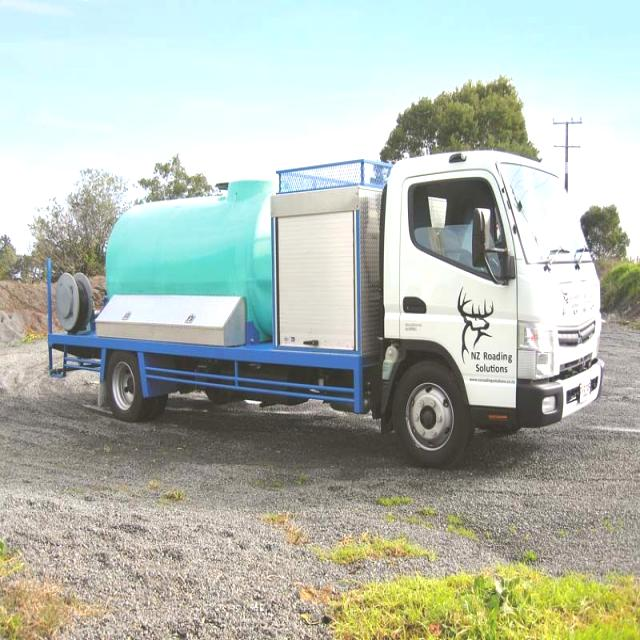truck: (44, 147, 603, 463)
